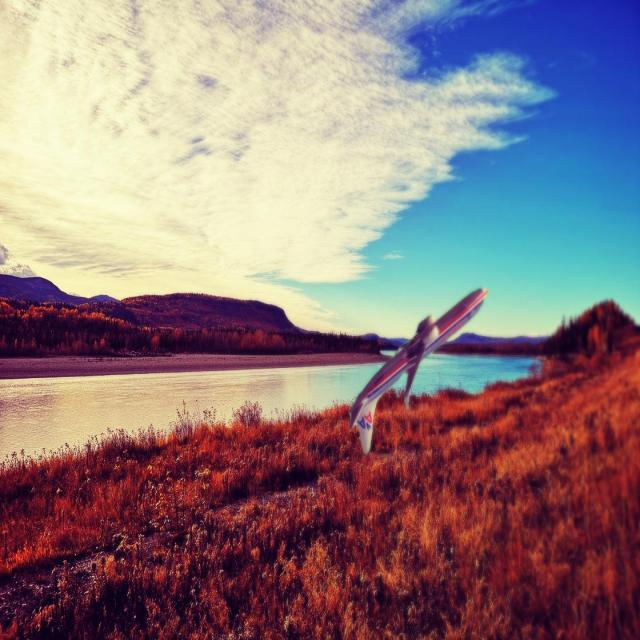airplane: (348, 286, 488, 455)
